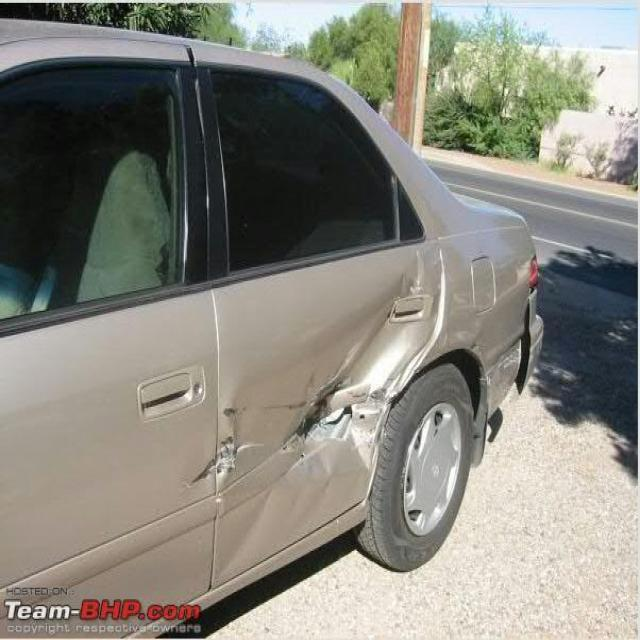minor: (211, 405, 301, 492)
moderate: (266, 348, 408, 480)
